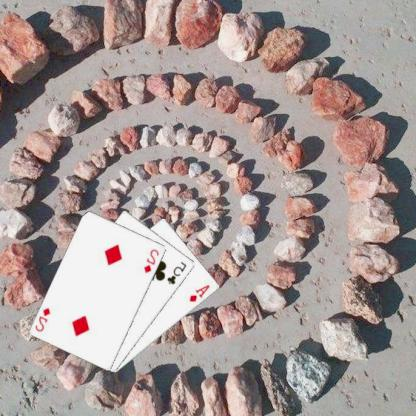2D: (143, 246, 163, 275), (35, 305, 54, 333)
5C: (166, 259, 190, 286)
AD: (188, 282, 214, 303)
